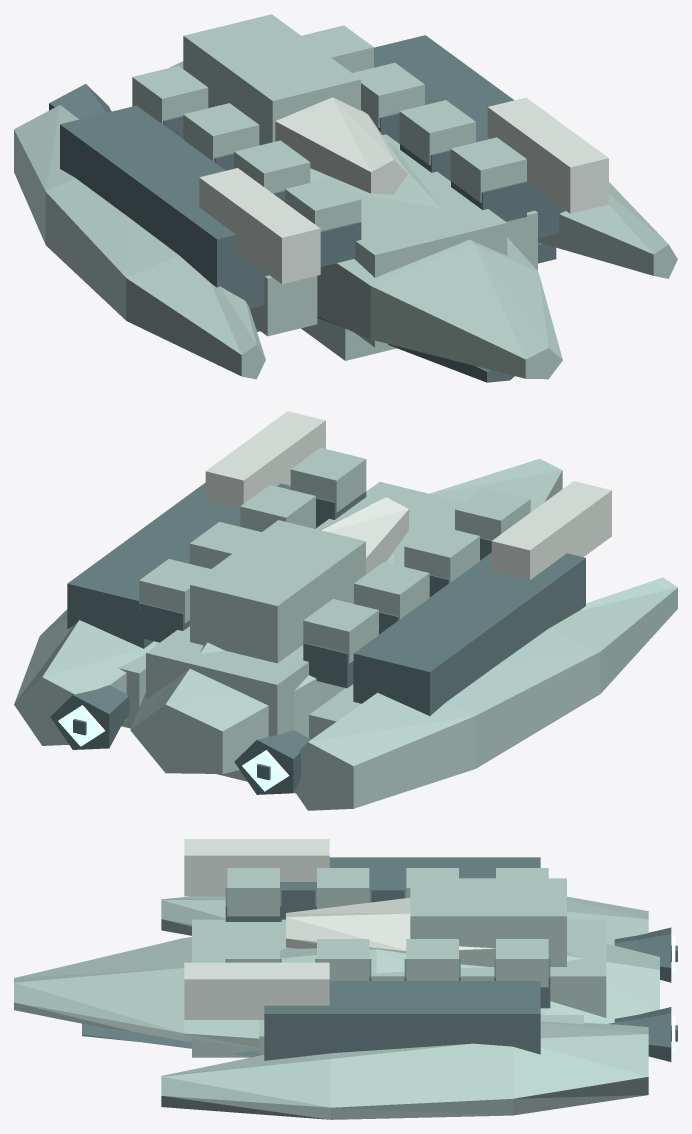
3 views of the same model, one above another, from view 1: azimuth 30°, elevation 25°; view 2: azimuth 150°, elevation 25°; view 3: azimuth 270°, elevation 25° (orthographic). The views are drawn at different scales.
Bounding box in the file's own units: 17.49 × 6.6 × 23.72.
